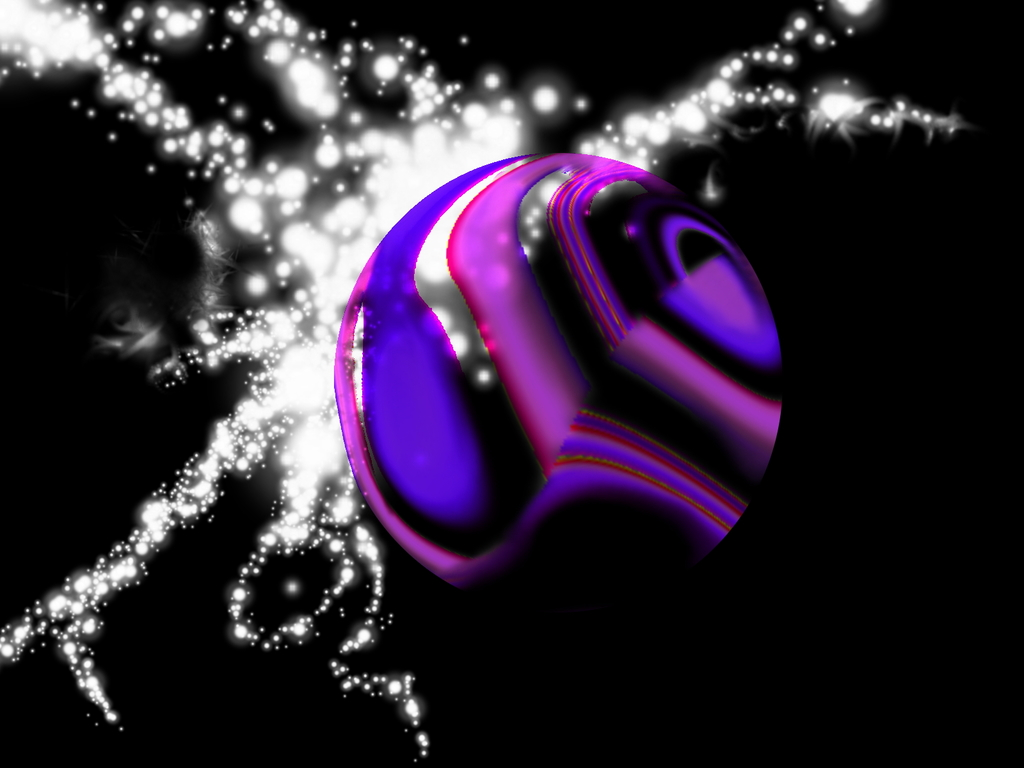Ball: (336, 154, 778, 598)
